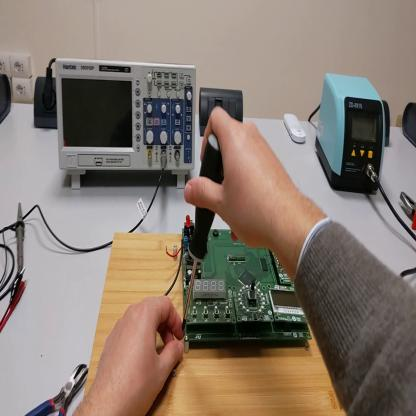hand: (187, 106, 294, 255), (88, 292, 187, 414)
low voltage board: (166, 214, 314, 344)
oscilloscope: (56, 57, 198, 192)
oscilloscope probe tip: (18, 201, 25, 276)
pliers: (26, 365, 88, 414), (402, 191, 415, 230)
screwdriver-: (182, 130, 225, 330)
socket: (34, 77, 58, 131), (1, 71, 13, 127), (402, 102, 415, 148), (382, 101, 391, 149)
welder station: (317, 74, 386, 196)
working area: (86, 232, 346, 416)
